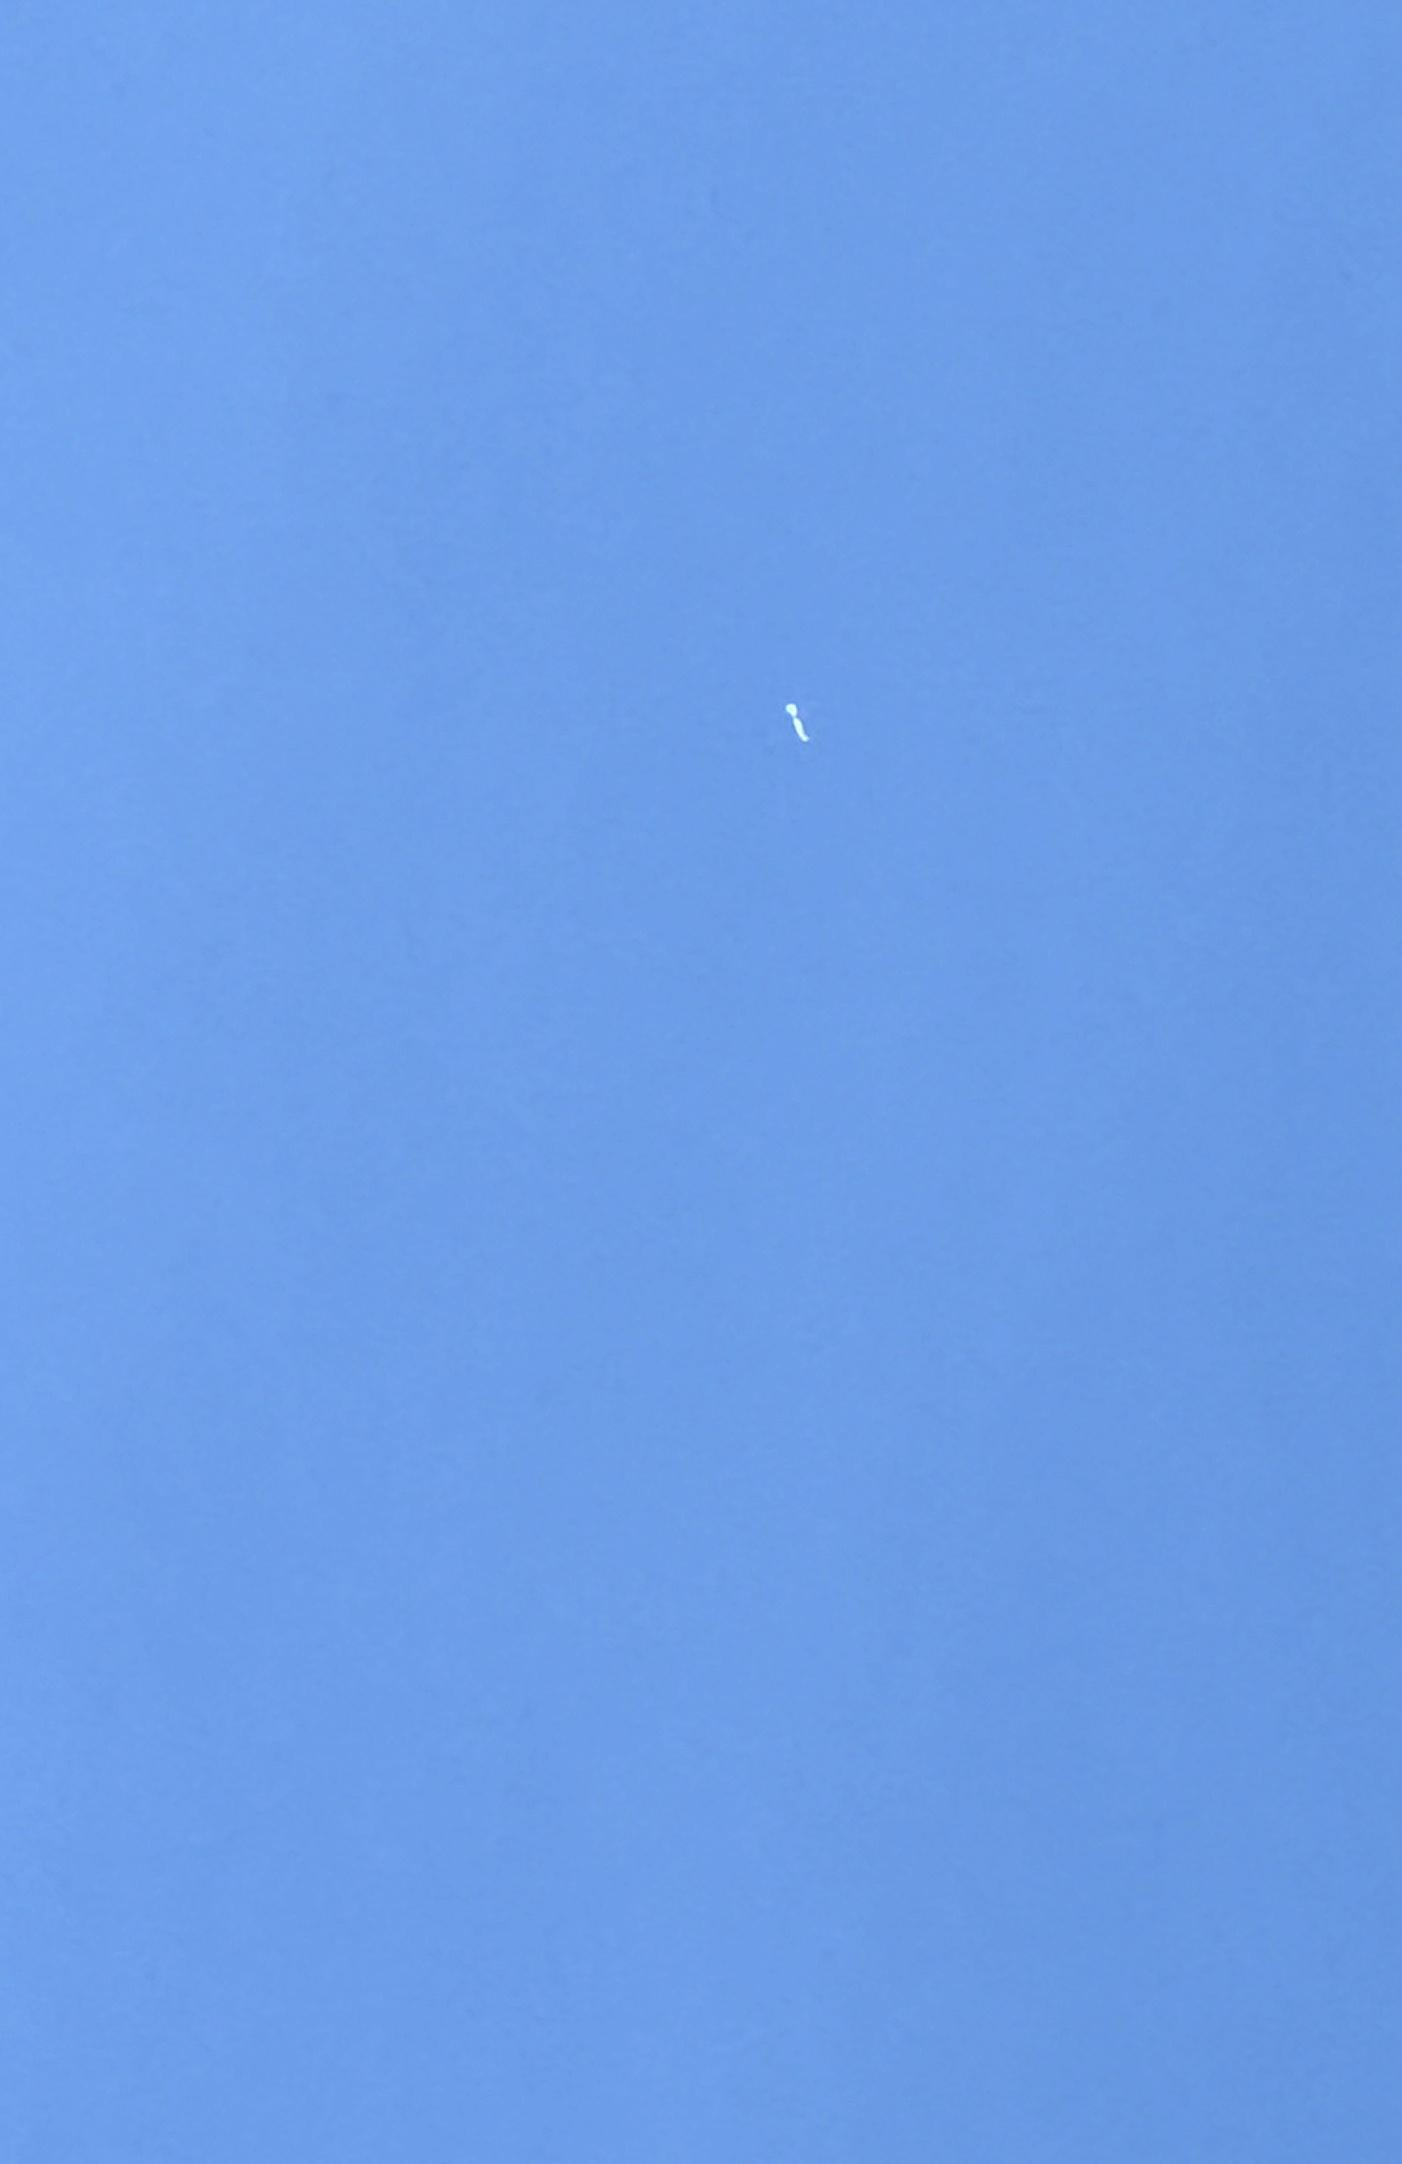Plane: (765, 681, 847, 765)
